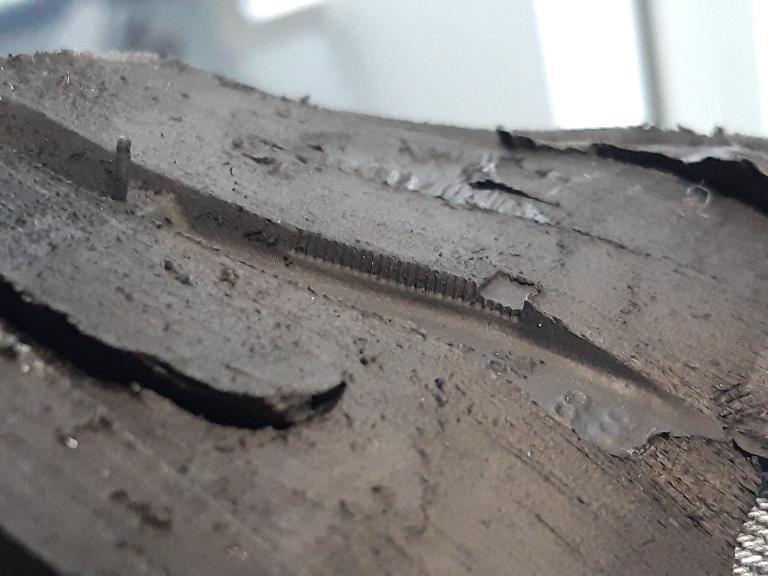temoin:25: (423, 247, 550, 329)
